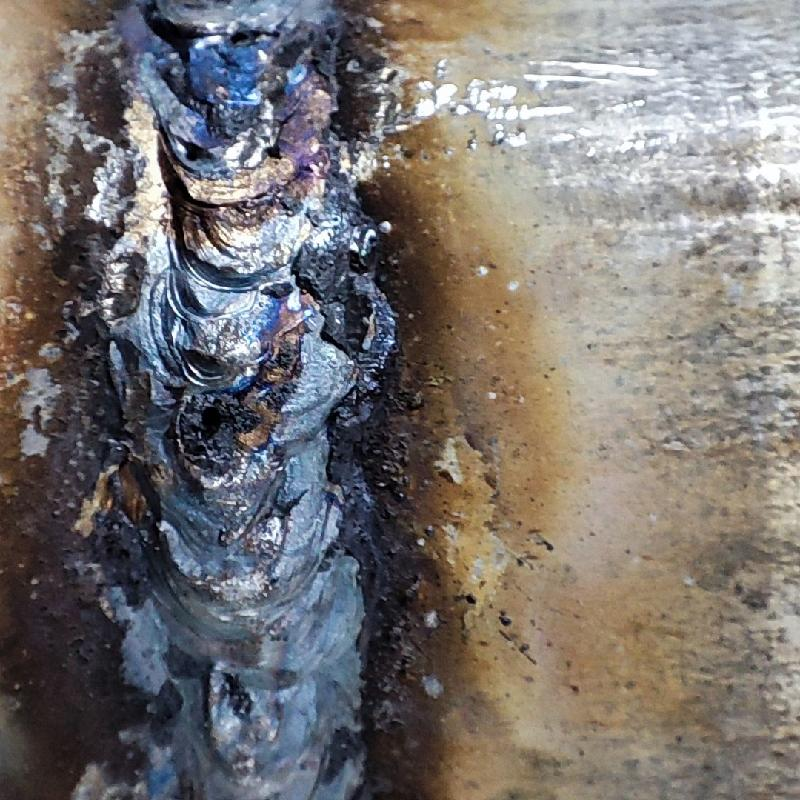Surface_pores: (181, 388, 252, 460), (168, 128, 219, 180), (248, 133, 292, 169), (218, 20, 258, 54)
